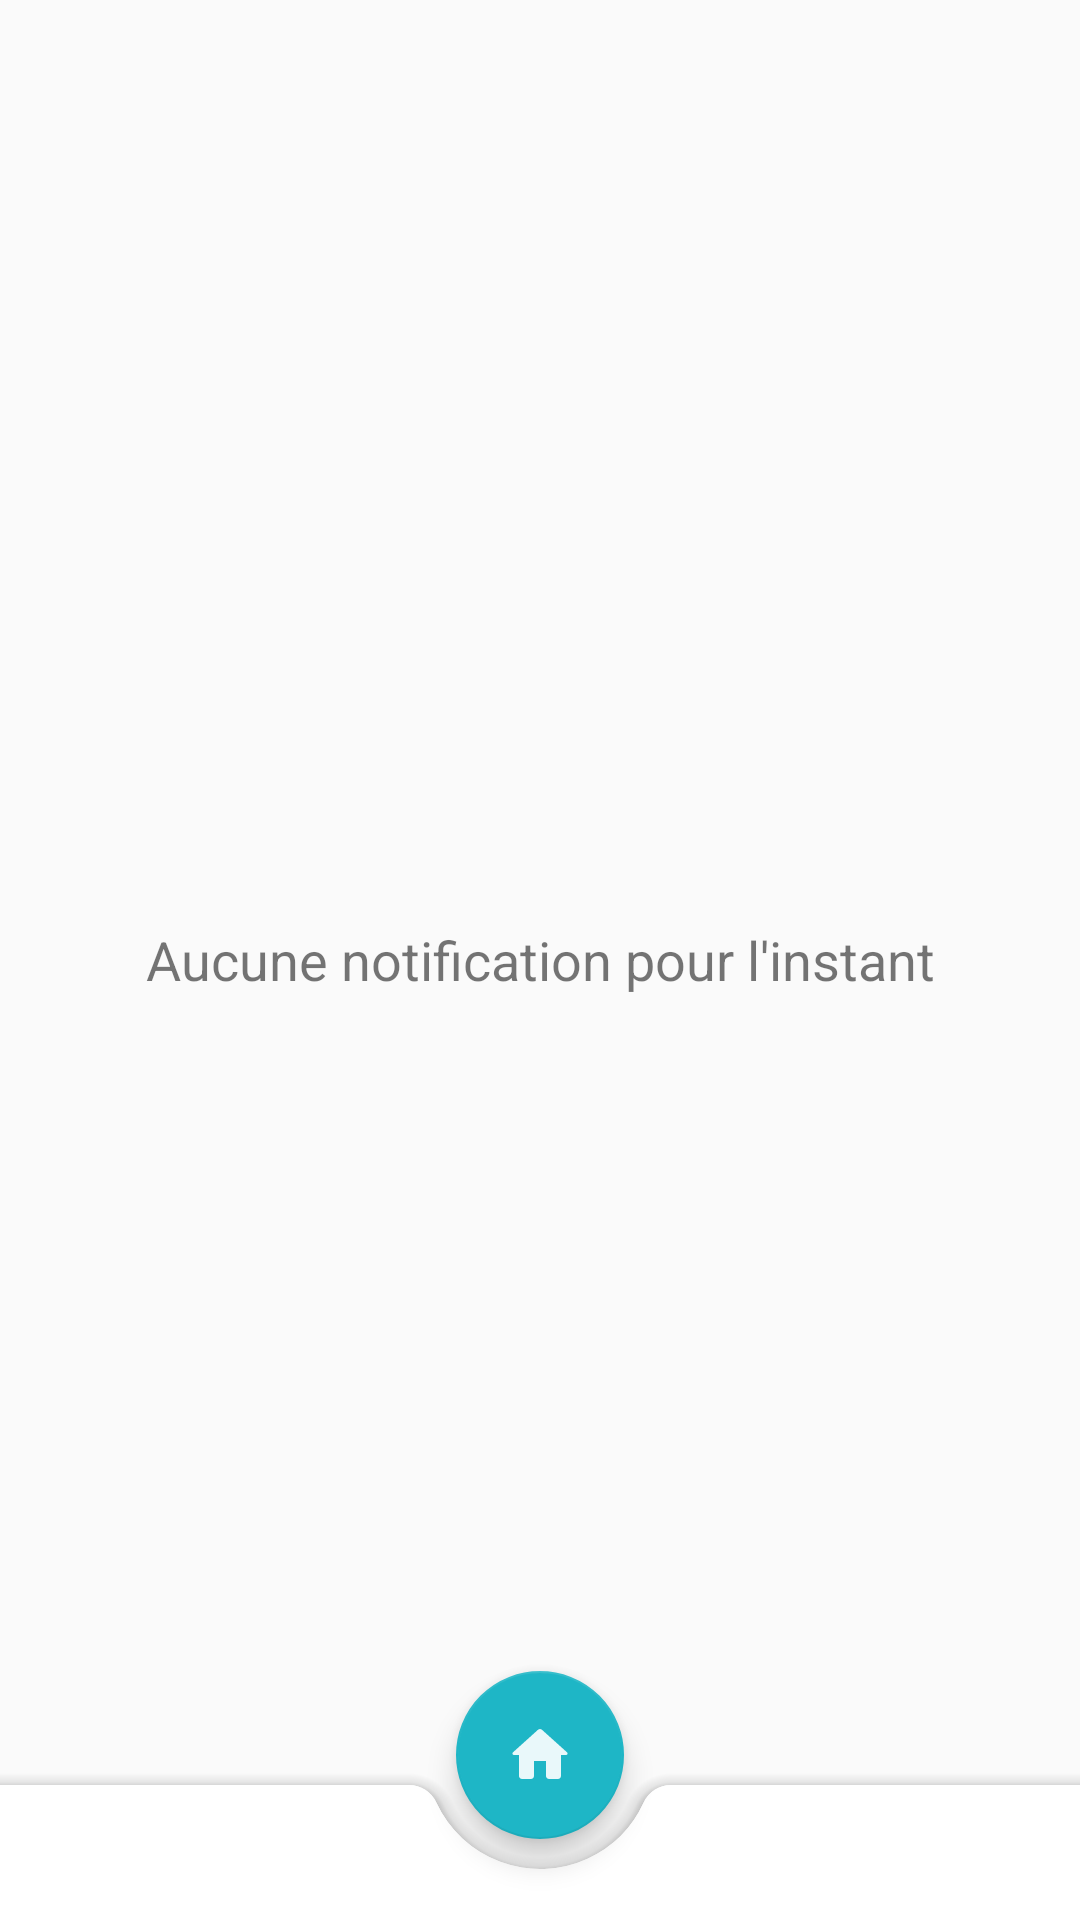

Point at icon controls on the screen. Image size 1080×1920, points as (x,y).
home: (540,1785)
